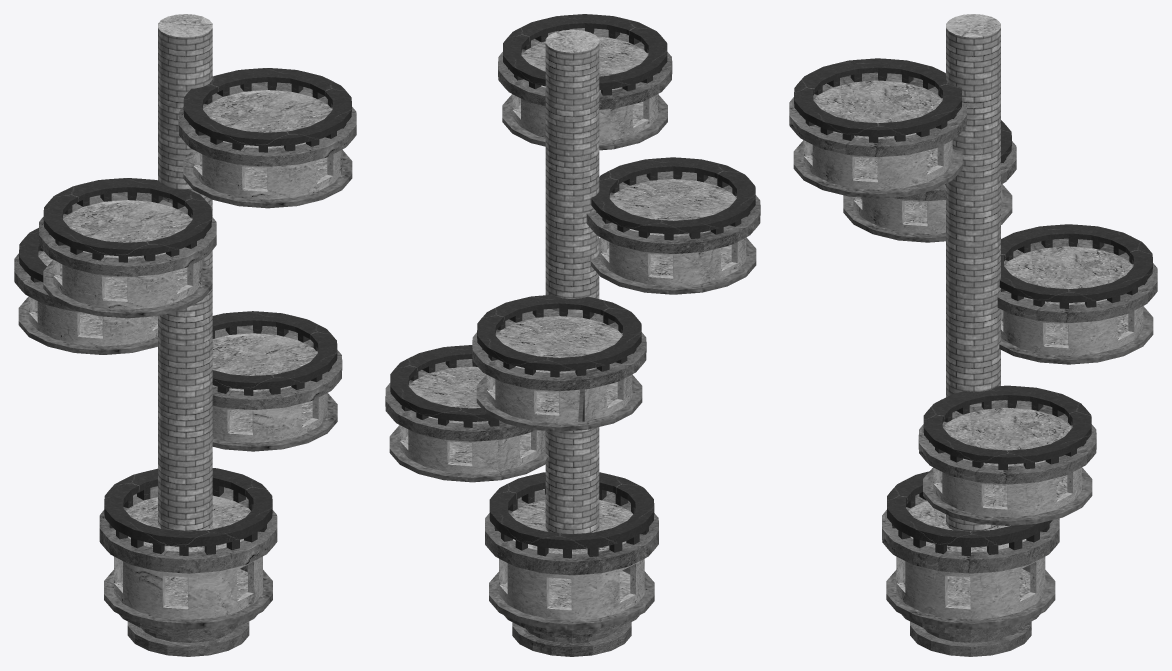
Rendered from tyuuou_tou_blue_usami.fbx.
3 renders of one model, left to right at view 1: azimuth 30°, elevation 25°; view 2: azimuth 150°, elevation 25°; view 3: azimuth 270°, elevation 25°, orthographic. The views are drawn at different scales.
Visible parts, largest first — view 1: Cylinder018; view 2: Cylinder018; view 3: Cylinder018.
Boxes of the visible parts, x1,y1,x2,y2 form: Cylinder018: [14, 14, 356, 656]; Cylinder018: [385, 14, 760, 656]; Cylinder018: [789, 14, 1157, 656].
Bounding box in the file's own units: 334 × 600 × 332.
1 material, 1 textured.
